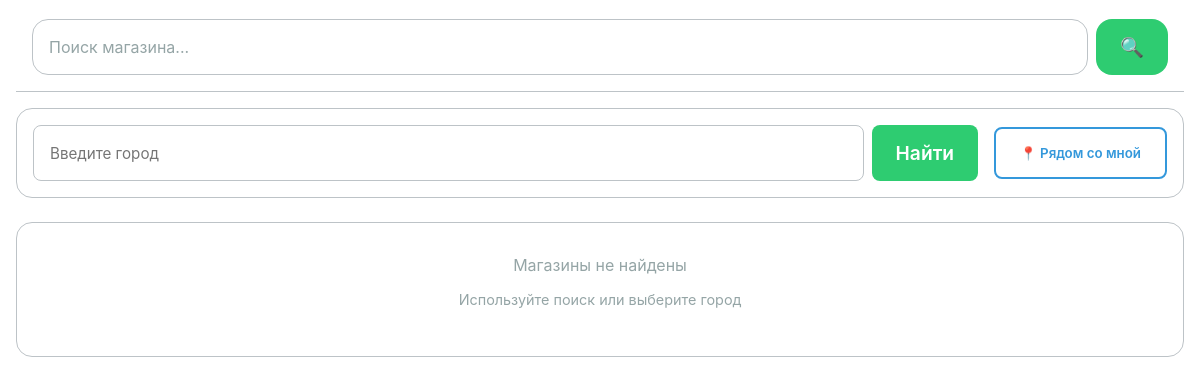
Test: ShopsPage › clearing the search box clears the shop list
Type "root" into the field with placeholder "Поиск магазина...".
click(560, 47); type("root")  # box [32, 19, 1088, 75]
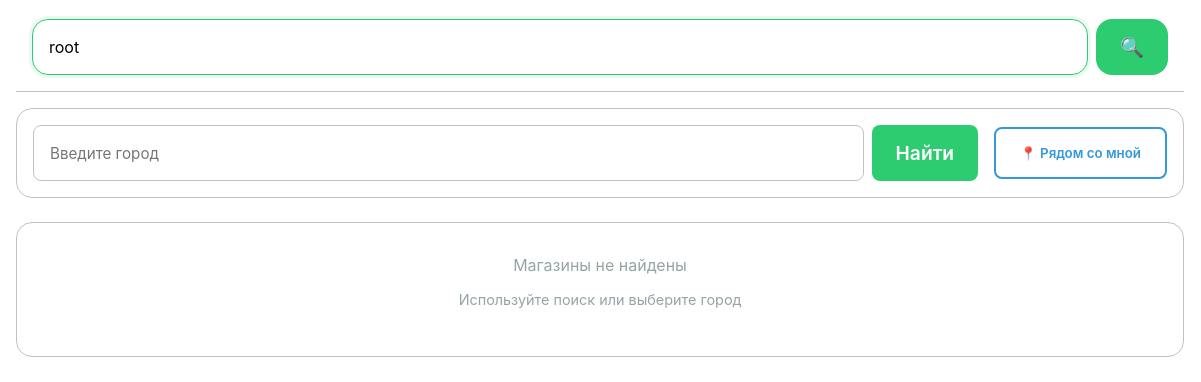
Click the button "🔍".
click(1132, 47)  # box [1096, 19, 1168, 75]
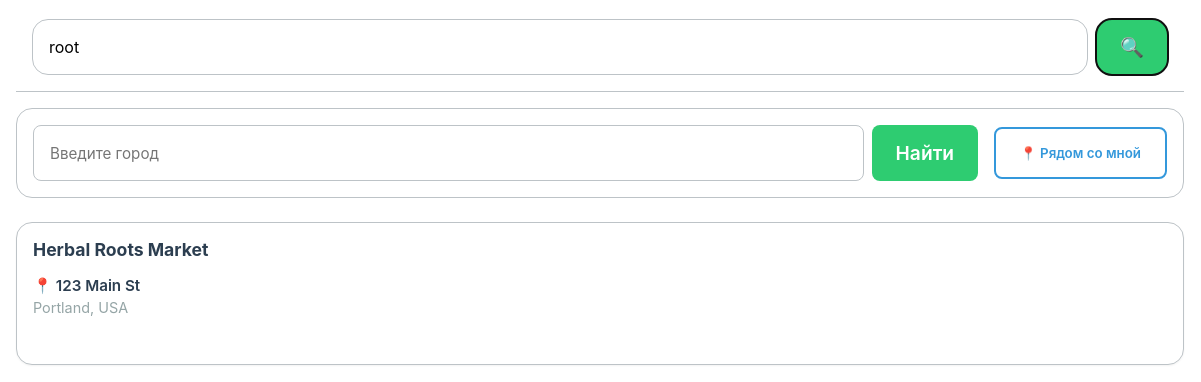
Result: the heading "Herbal Roots Market" is shown at [33, 239, 208, 260]
Clear the field with placeholder "Поиск магазина..." at (560, 47), box [32, 19, 1088, 75]
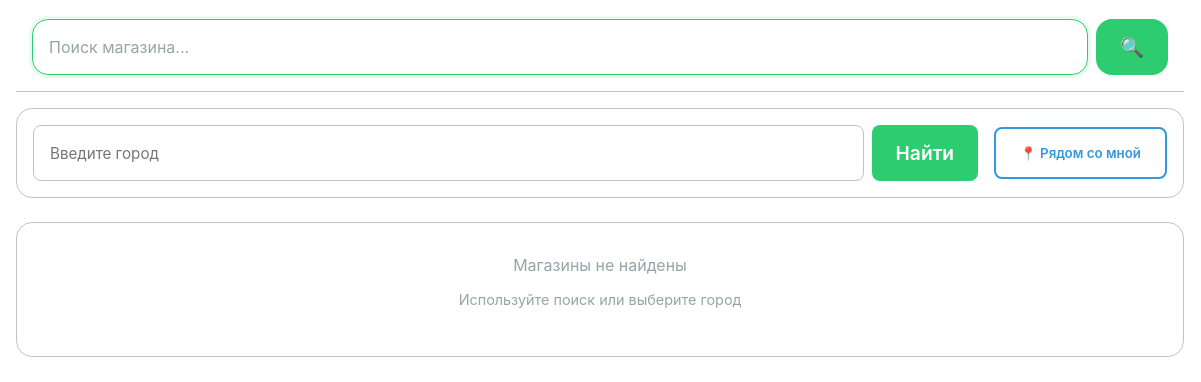
Result: the text "Магазины не найдены" is shown at [513, 255, 687, 275]
